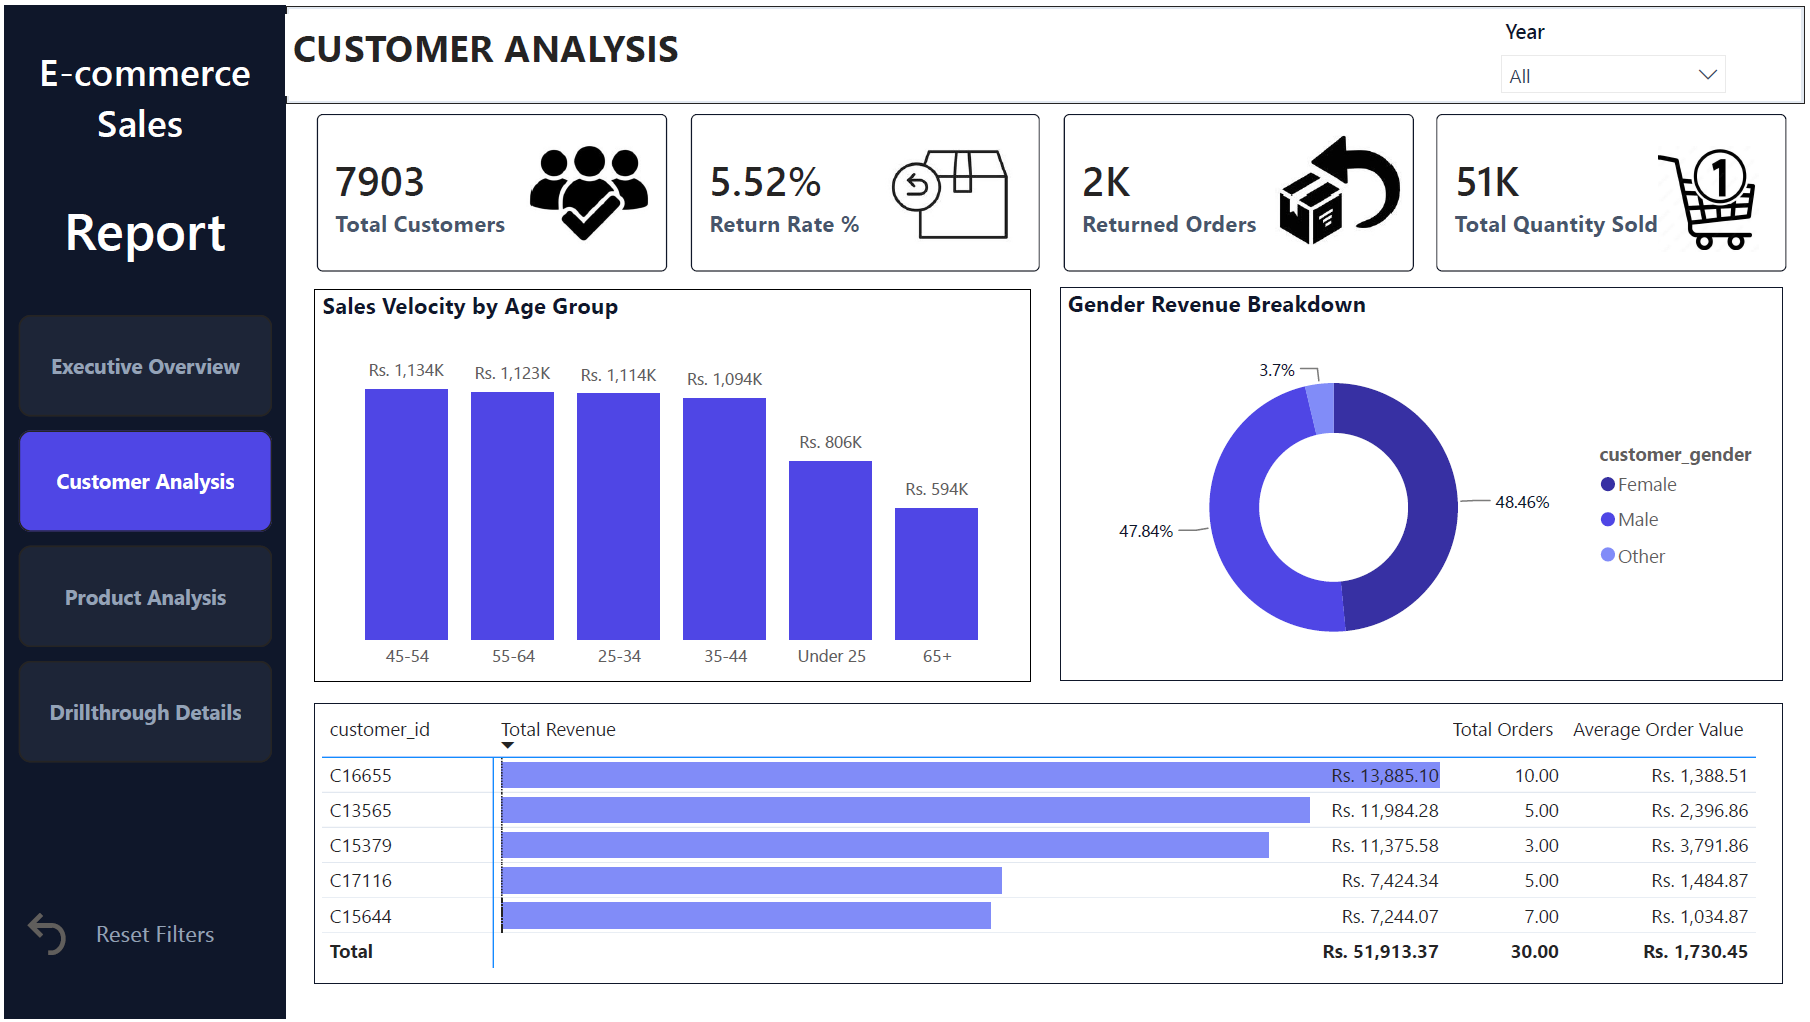

The page's visual inventory and layout, read from the dashboard file:
{"tool":"powerbi","page":{"name":"Customer Analysis","canvas":[1280,720],"ordinal":1},"visuals":[{"type":"shape","box":[0,0,200,720],"z":0},{"type":"pageNavigator","box":[10,220,180,320],"z":1000},{"type":"actionButton","box":[10,640,100,40],"z":2000},{"type":"textbox","box":[59.9,644.4,100.3,35.5],"z":3000},{"type":"shape","box":[200,0,1080,70],"z":4000},{"type":"textbox","box":[200,5.8,401,57.8],"z":5000},{"type":"slicer","fields":{"Values":["Dim_Calendar.Year"]},"box":[1053.8,2.5,180,63.8],"z":6000},{"type":"cardVisual","fields":{"Data":["_Measures.Total Customers"]},"box":[210.3,64.8,272.5,136.2],"z":7000},{"type":"clusteredColumnChart","title":"Sales Velocity by Age Group","fields":{"Category":["Dim_Customer.Age Group"],"Y":["_Measures.Total Revenue"]},"box":[220.1,200.5,510,280],"z":8000},{"type":"donutChart","title":"Gender Revenue Breakdown","fields":{"Category":["Dim_Customer.customer_gender"],"Y":["_Measures.Total Revenue"]},"box":[749.6,200.5,514.8,280],"z":9000},{"type":"pivotTable","fields":{"Rows":["Dim_Customer.customer_id"],"Values":["_Measures.Total Revenue","_Measures.Total Orders","_Measures.Average Order Value"]},"box":[220,496.2,1045,200],"z":10000},{"type":"cardVisual","fields":{"Data":["_Measures.Return Rate %"]},"box":[475.7,64.8,272.5,136.2],"z":11000},{"type":"cardVisual","fields":{"Data":["_Measures.Returned Orders"]},"box":[741,64.8,272.5,136.2],"z":12000},{"type":"cardVisual","fields":{"Data":["_Measures.Total Quantity Sold"]},"box":[1006.4,64.8,272.5,136.2],"z":13000},{"type":"image","box":[370.5,6.1,88,254.3],"z":14000},{"type":"image","box":[626.1,8.6,95.4,250.7],"z":15000},{"type":"image","box":[903.7,31.8,90.5,198.1],"z":16000},{"type":"image","box":[1156.8,100.3,108.8,74.6],"z":17000},{"type":"textbox","box":[9.8,6.1,179.8,192],"z":18000}]}

Visuals, with their boxes in screenshot pixels (x1, y1, x2, y2), scaled from the page's 1280x720 canvas onto the 1810x1022 screenshot:
shape: locate(0, 0, 283, 1021)
pageNavigator: locate(14, 312, 269, 766)
actionButton: locate(14, 908, 156, 965)
textbox: locate(85, 915, 227, 965)
shape: locate(283, 0, 1809, 99)
textbox: locate(283, 8, 850, 90)
slicer - Dim_Calendar.Year: locate(1490, 4, 1745, 94)
cardVisual - _Measures.Total Customers: locate(297, 92, 683, 285)
"Sales Velocity by Age Group" clusteredColumnChart: locate(311, 285, 1032, 682)
"Gender Revenue Breakdown" donutChart: locate(1060, 285, 1788, 682)
pivotTable - Dim_Customer.customer_id x _Measures.Total Revenue: locate(311, 704, 1789, 988)
cardVisual - _Measures.Return Rate %: locate(673, 92, 1058, 285)
cardVisual - _Measures.Returned Orders: locate(1048, 92, 1433, 285)
cardVisual - _Measures.Total Quantity Sold: locate(1423, 92, 1808, 285)
image: locate(524, 9, 648, 370)
image: locate(885, 12, 1020, 368)
image: locate(1278, 45, 1406, 326)
image: locate(1636, 142, 1790, 248)
textbox: locate(14, 9, 268, 281)
